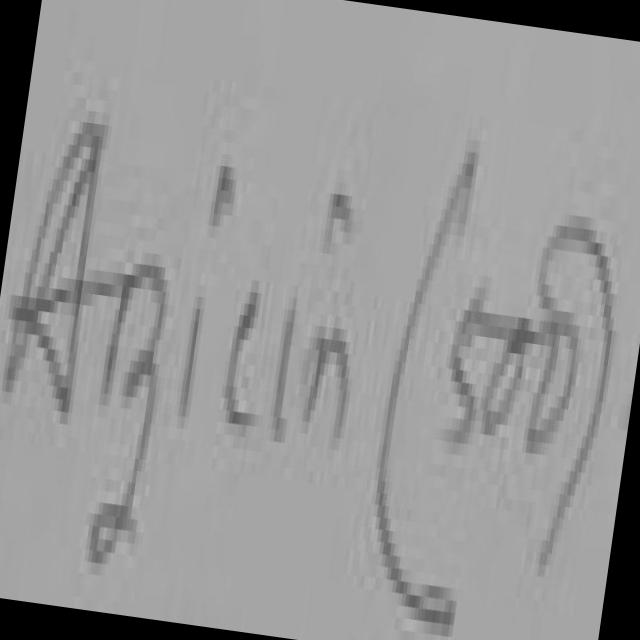0: (530, 311, 581, 449), (486, 319, 534, 435)
5: (453, 288, 489, 443)
A: (6, 122, 104, 411)
c: (225, 292, 260, 423)
i: (272, 298, 298, 442), (181, 309, 203, 417), (326, 194, 353, 248), (213, 168, 236, 221)
n: (308, 329, 351, 433)
z: (90, 265, 167, 562)
